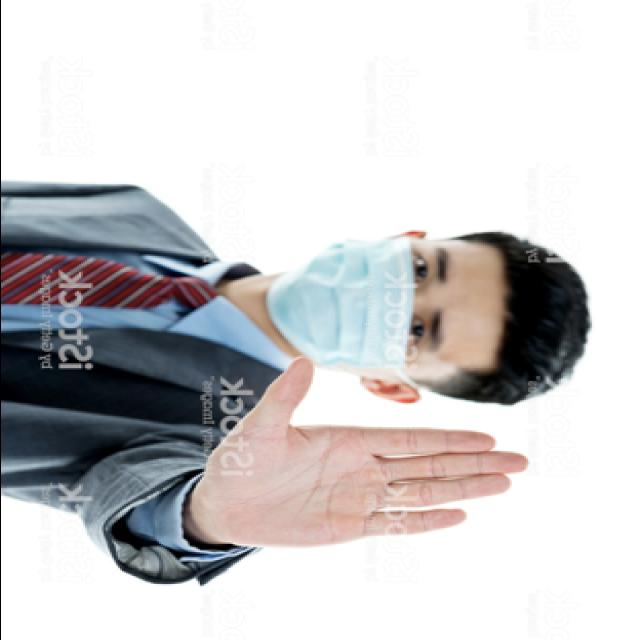with_mask: (263, 240, 462, 381)
